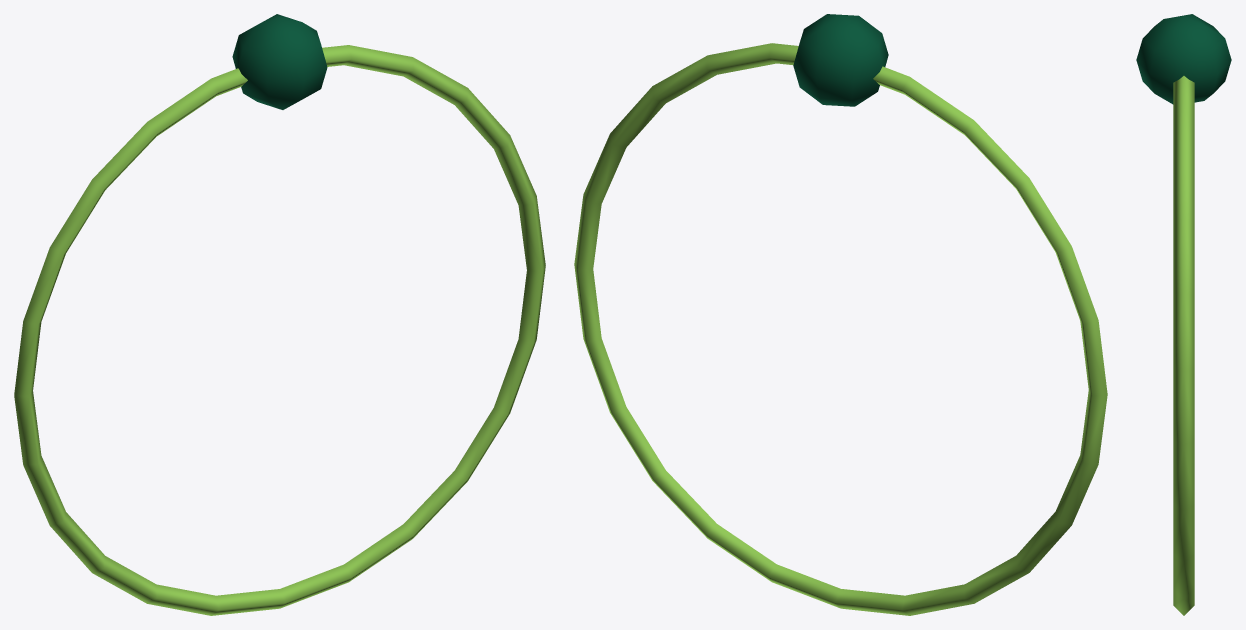
Rendered from Artifact_orbit_04.fbx.
3 views of the same model, side by side, from view 1: azimuth 30°, elevation 25°; view 2: azimuth 150°, elevation 25°; view 3: azimuth 270°, elevation 25° (orthographic). The views are drawn at different scales.
Parts seen in each view (by area): view 1: Artifact_orbit_04; view 2: Artifact_orbit_04; view 3: Artifact_orbit_04.
Boxes of the visible parts, box(x1,y1,x2,y2) form: Artifact_orbit_04: box(14, 14, 545, 615); Artifact_orbit_04: box(574, 14, 1107, 615); Artifact_orbit_04: box(1136, 14, 1231, 615).
Bounding box in the file's own units: 171 × 27.46 × 182.
